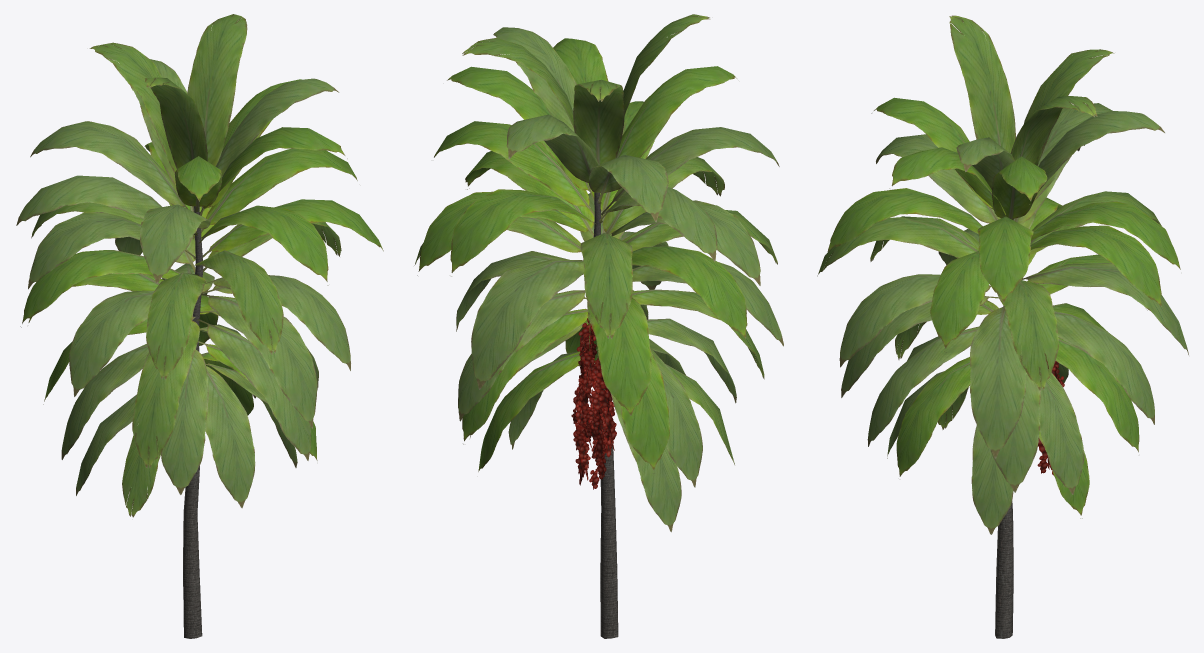
Rendered from Cordyline_Petiolaris_Spring_Adult.glb.
3 renders of one model, left to right at view 1: azimuth 30°, elevation 25°; view 2: azimuth 150°, elevation 25°; view 3: azimuth 270°, elevation 25°, orthographic. The views are drawn at different scales.
Parts seen in each view (by area): view 1: Cordyline_Petiolaris_Spring_Adult__LOD3; view 2: Cordyline_Petiolaris_Spring_Adult__LOD3; view 3: Cordyline_Petiolaris_Spring_Adult__LOD3.
Part boxes in pixels (x1,y1,x2,y2): Cordyline_Petiolaris_Spring_Adult__LOD3: [16, 14, 383, 638]; Cordyline_Petiolaris_Spring_Adult__LOD3: [414, 14, 783, 638]; Cordyline_Petiolaris_Spring_Adult__LOD3: [817, 15, 1188, 638].
Bounding box in the file's own units: 2.14 × 3.73 × 2.15.
Materials: 3 (3 with a texture image).
